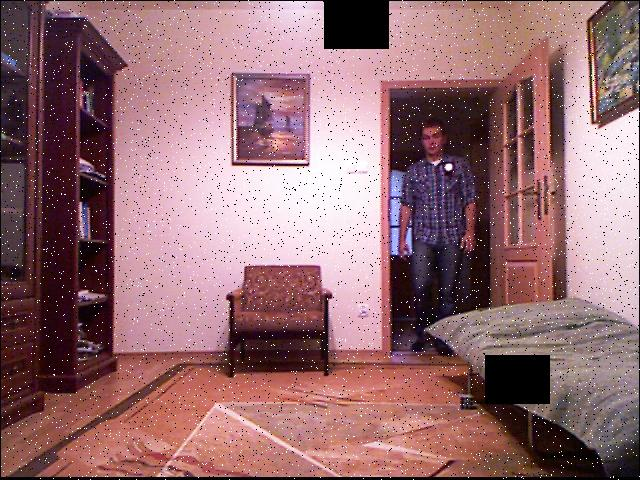standing: (393, 118, 484, 328)
